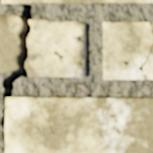brick: (5, 97, 152, 152), (103, 22, 152, 79), (3, 0, 152, 3)
broken_brick: (26, 19, 87, 77), (0, 14, 22, 73)
crack: (0, 2, 33, 150), (27, 96, 55, 135), (138, 42, 152, 73), (149, 21, 152, 36)
